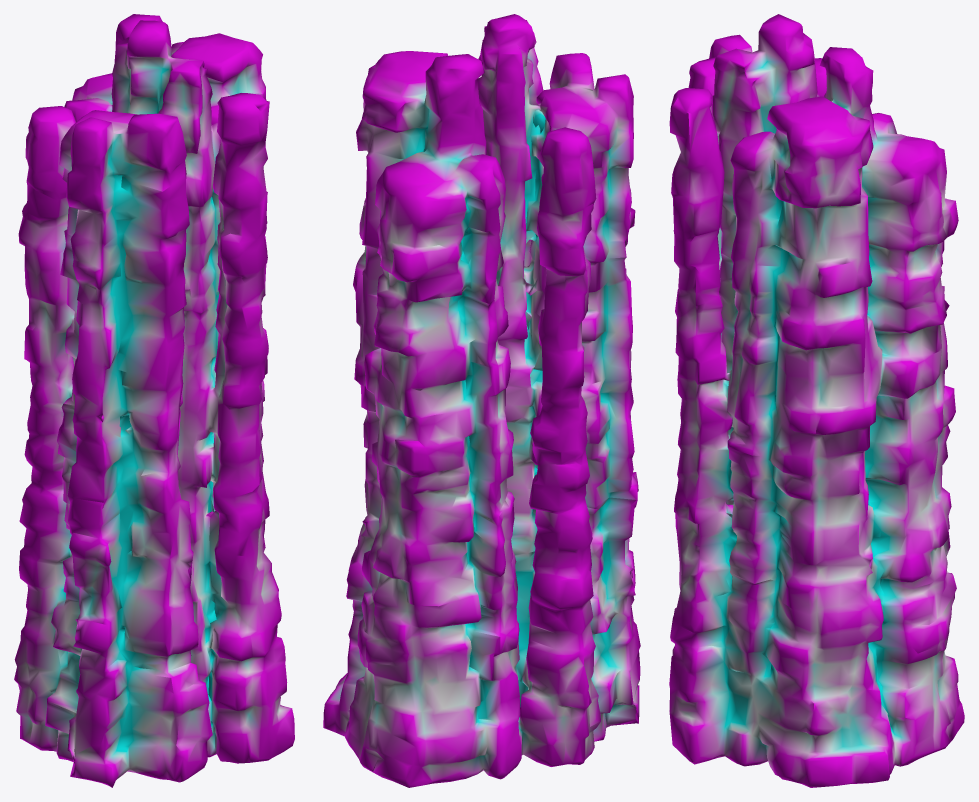
The model's file is Macico_5_Longe.fbx.
The picture shows the model from 3 angles, left to right: view 1: azimuth 30°, elevation 25°; view 2: azimuth 150°, elevation 25°; view 3: azimuth 270°, elevation 25°; orthographic projection. The views are drawn at different scales.
Visible parts, largest first — view 1: Macico_5_Longe; view 2: Macico_5_Longe; view 3: Macico_5_Longe.
Boxes of the visible parts, left/top/right/bottom form: Macico_5_Longe: left=14, top=14, right=294, bottom=787; Macico_5_Longe: left=323, top=14, right=640, bottom=787; Macico_5_Longe: left=669, top=14, right=964, bottom=787.
Size of the model in its own units: 121 by 320 by 122.
